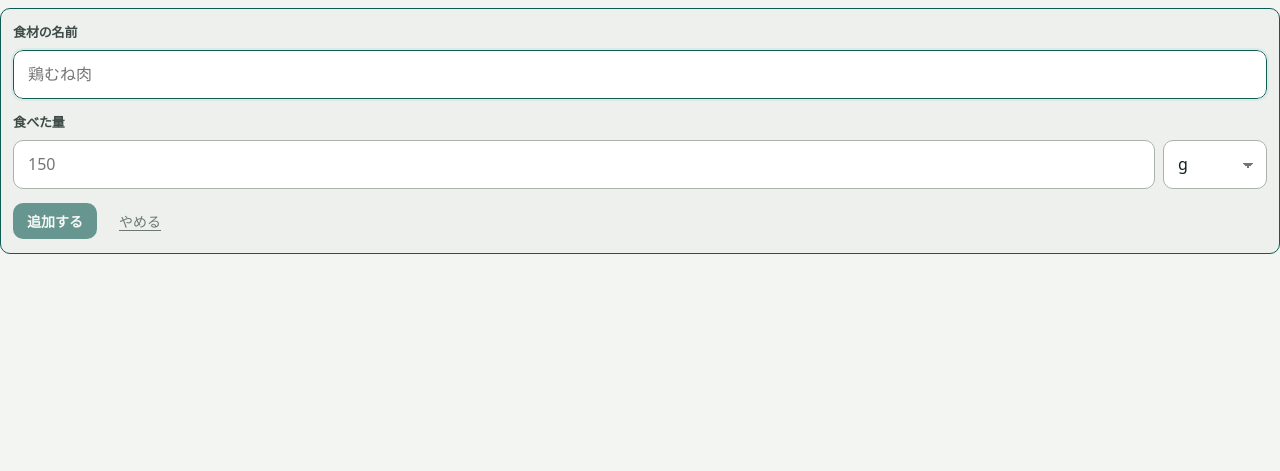
Test case: 契約者が使うとき（canEditNutrition = false） › マスタに無い食材なら、仮の値を入れられる
Type "サラダチキン" into the field labelled "食材の名前". click: [640, 75]
box: [13, 50, 1267, 99]
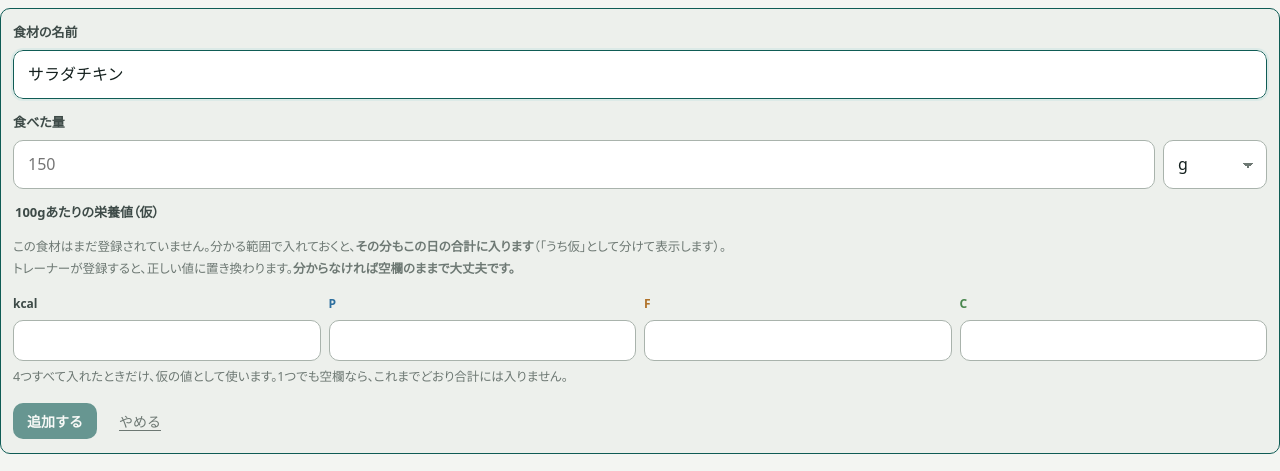
Result: the text "100gあたりの栄養値（仮）" is shown at [13, 201, 161, 224]
Result: the number field labelled "kcal" is shown at [13, 320, 320, 361]
